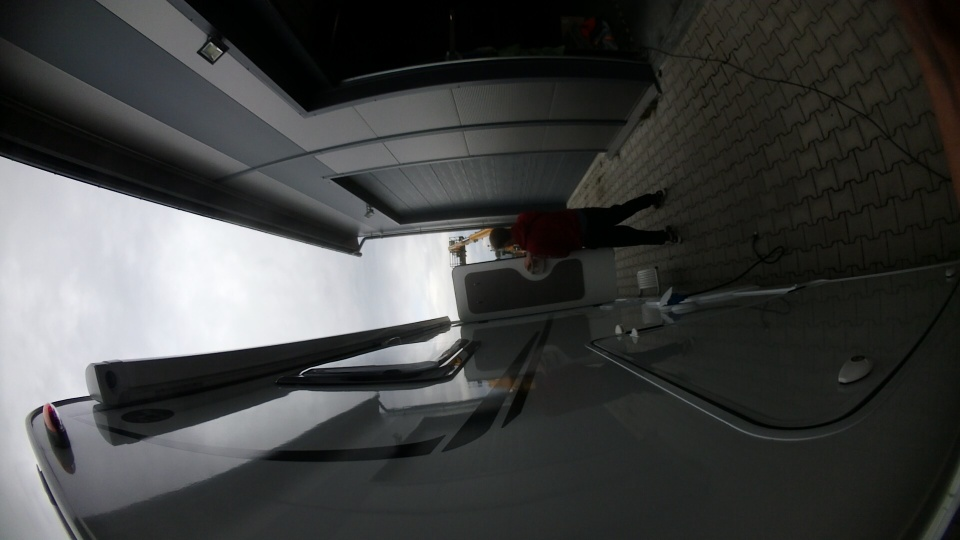door_back: (445, 241, 623, 326)
step_back: (629, 264, 668, 295)
